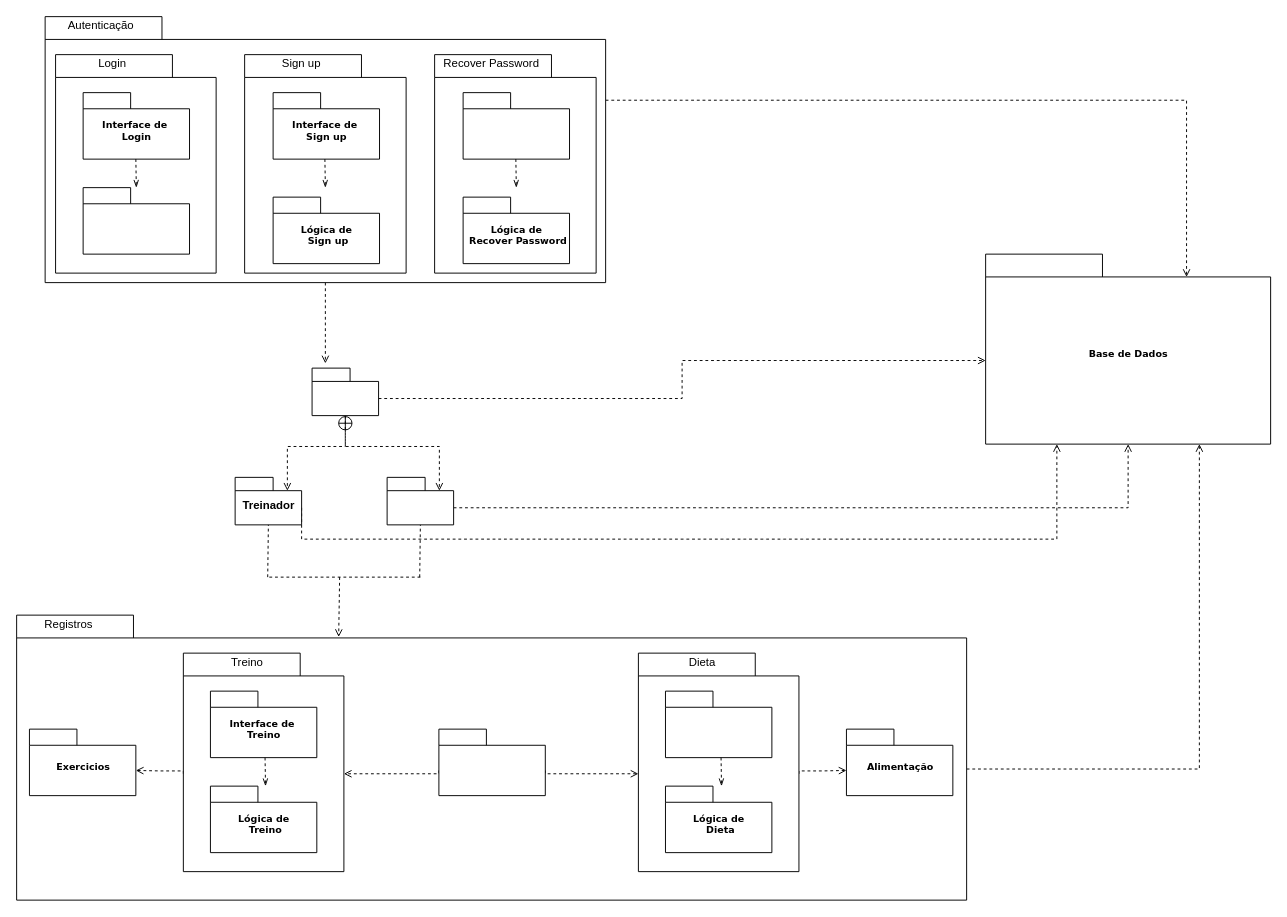
Some shapes in this 1287 by 917 pixel diagram are drawn without their labels. Here are the shapes that lost their labels. From the top down, the centre of each, then its label:
At (516,125): "Interface de Recover Password".
At (136,220): "Lógica de Login".
At (345,391): "Usuario".
At (420,500): "Atleta".
At (718,724): "Interface de Dieta".
At (491,762): "Pesquisa".
